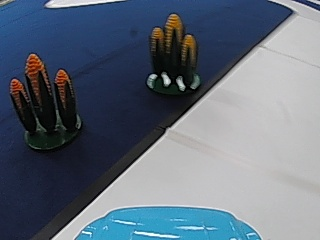corn: (9, 52, 83, 148), (145, 10, 201, 95)
